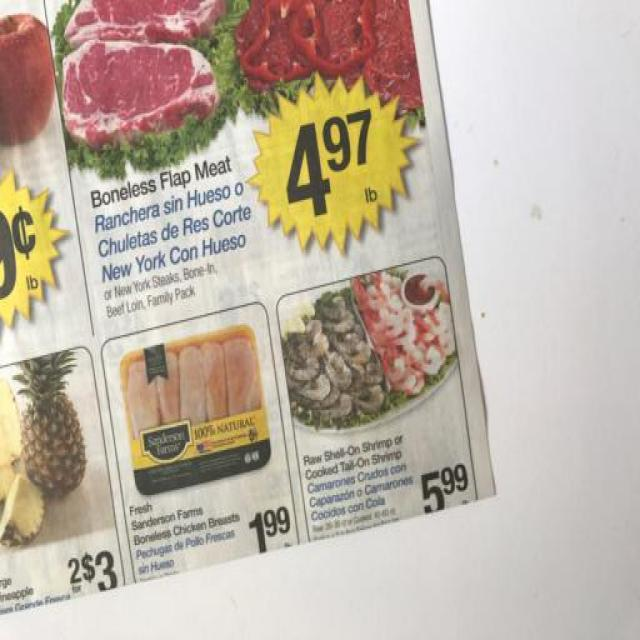paper: (2, 1, 504, 640)
